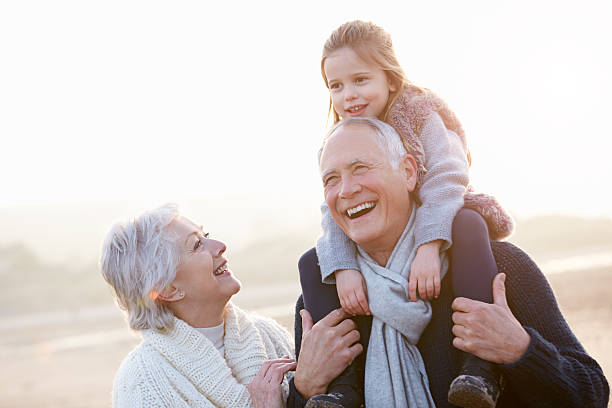without mask: (313, 123, 419, 238), (143, 209, 250, 316), (317, 40, 391, 124)
